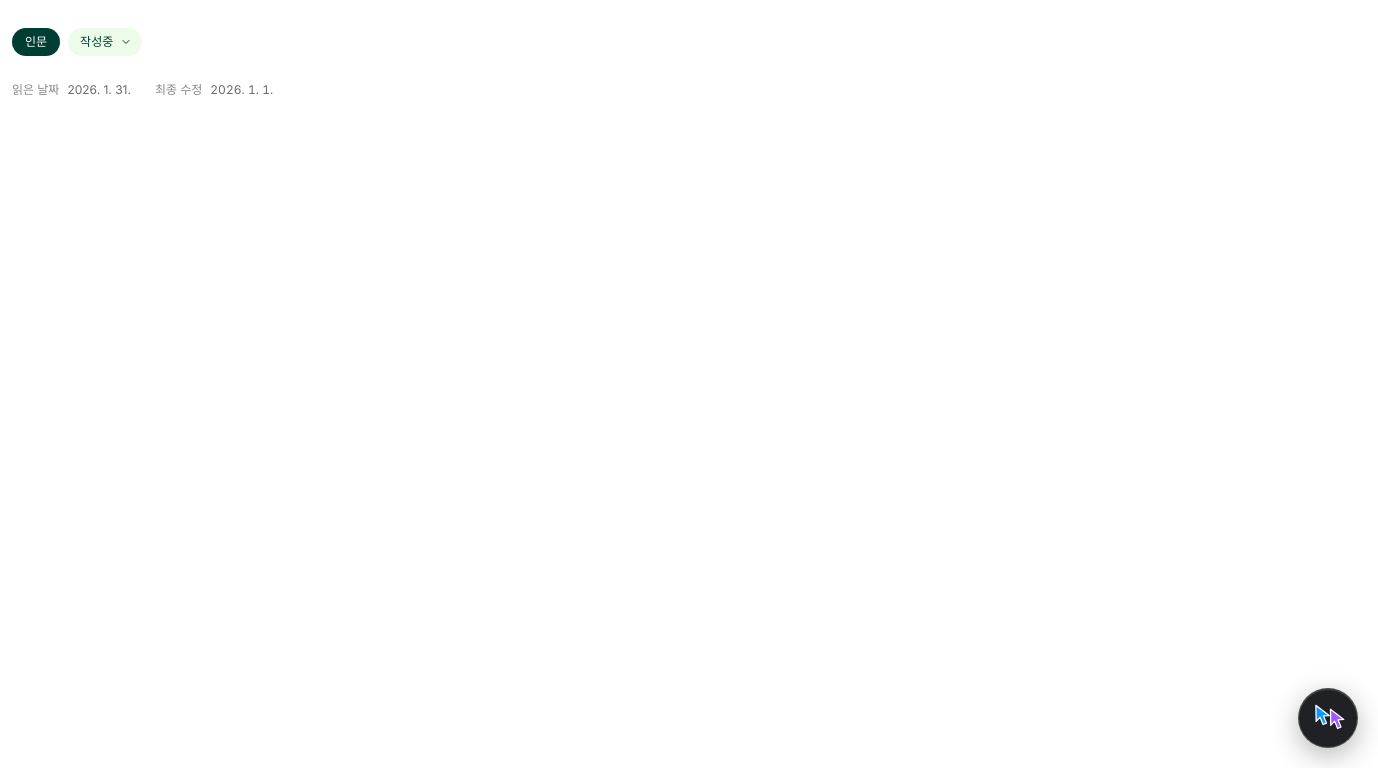
does not display an unsuccessful write as saved
The width and height of the screenshot is (1378, 768).
Select "완료" in the dropdown named "기록 상태": (105, 42) x1=68 y1=28 x2=142 y2=56
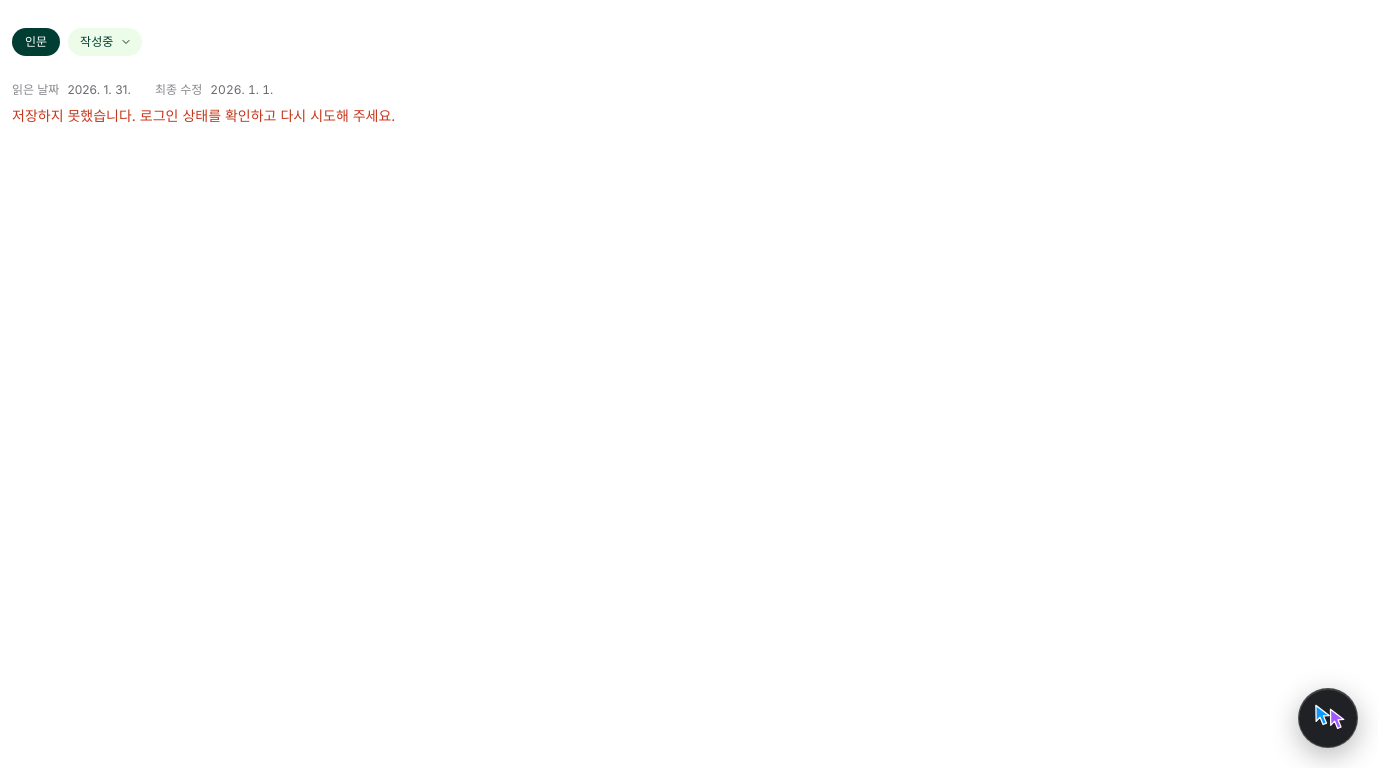
Now the message shows "저장하지 못했습니다", box x1=12 y1=107 x2=395 y2=124
